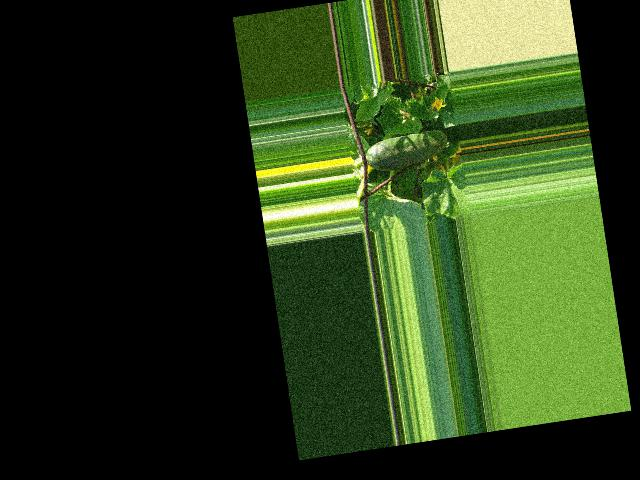cucumber: (364, 128, 451, 175)
